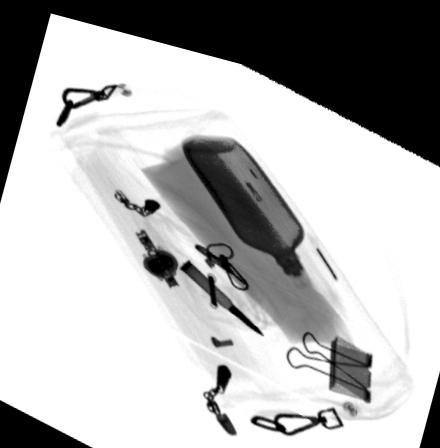Bullet: (177, 247, 267, 322)
